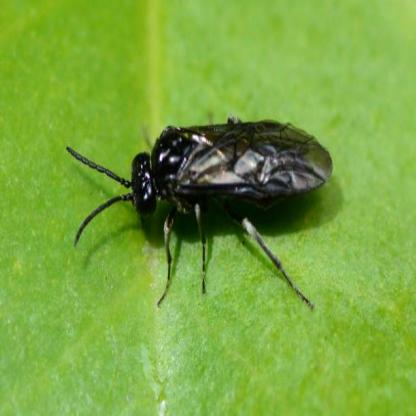sawfly: (66, 116, 334, 321)
